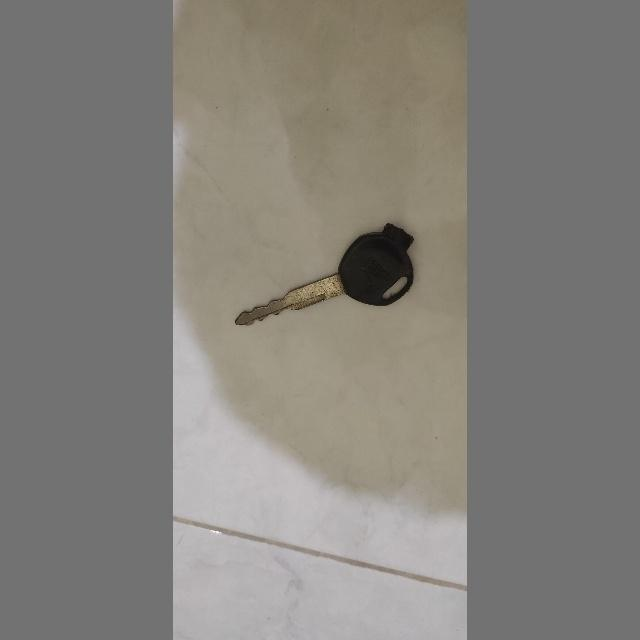Keys: (230, 220, 426, 334)
